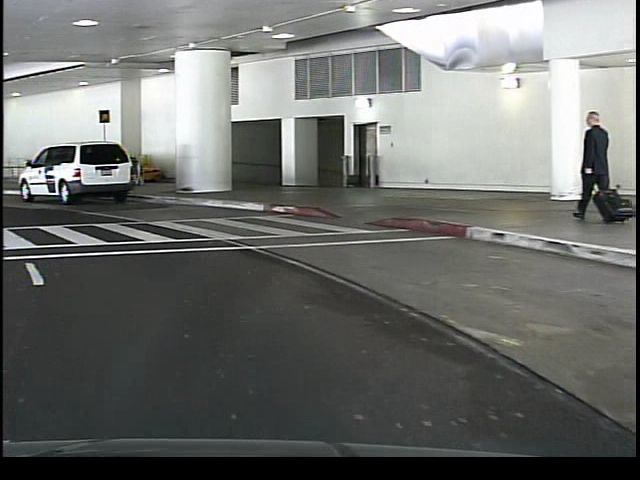person: (571, 104, 608, 226)
